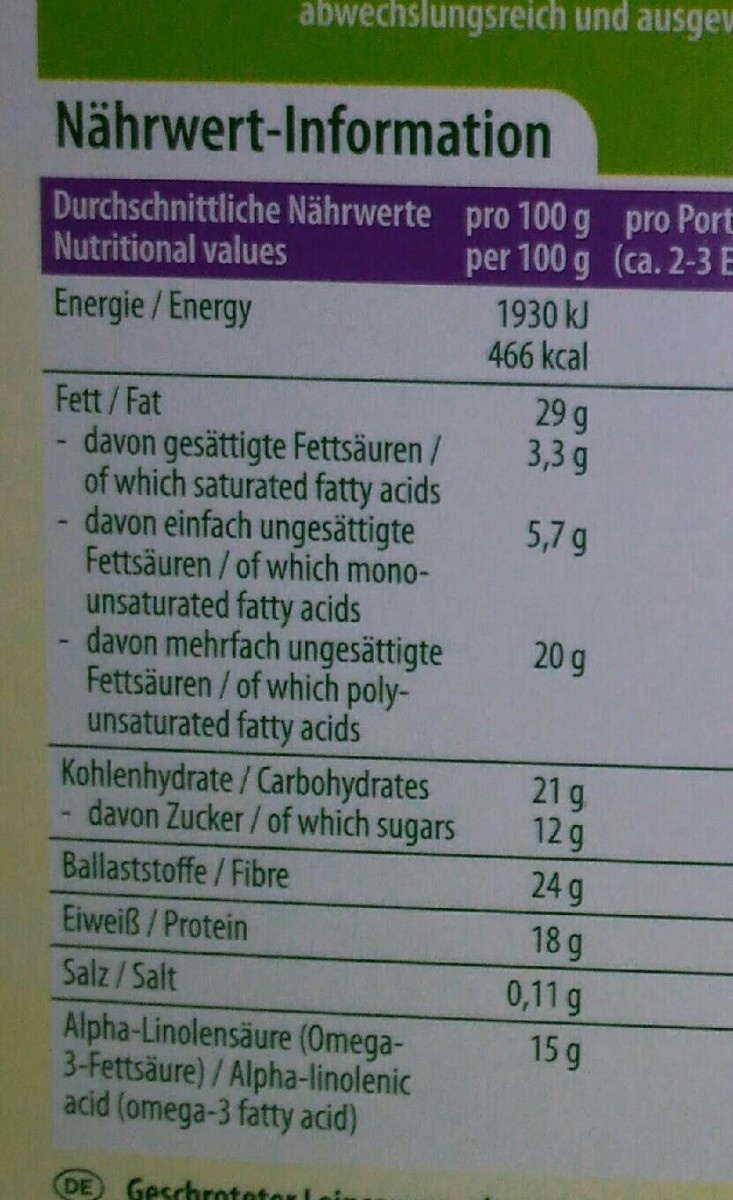column: (51, 187, 456, 1143), (466, 201, 590, 1077)
table: (36, 175, 594, 1151)
